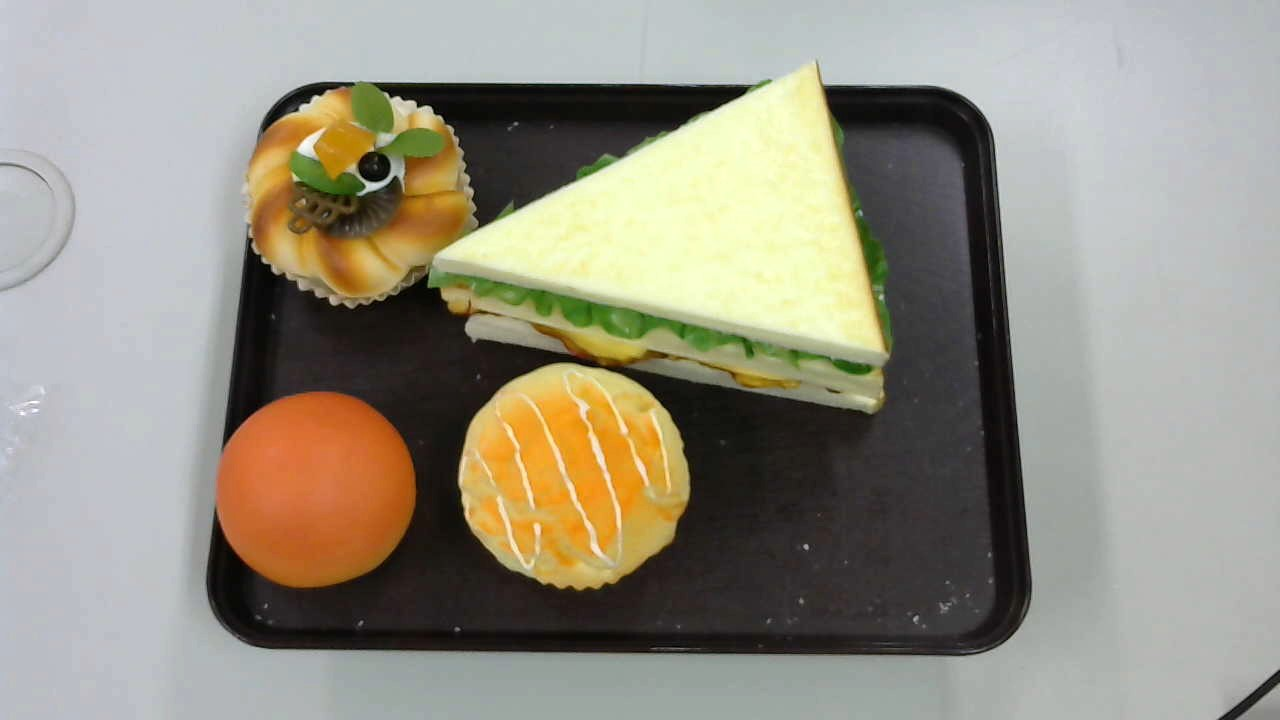bun: (214, 391, 418, 589)
cupcake: (458, 362, 692, 591)
fruit tart: (243, 82, 480, 308)
sandwich: (427, 60, 894, 414)
